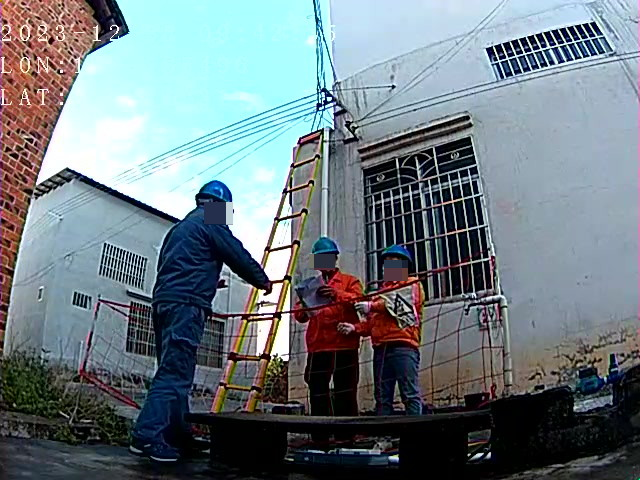downcloth: (307, 352, 355, 414)
downsuit: (131, 308, 209, 457), (375, 346, 425, 410)
halt: (195, 180, 236, 218), (311, 236, 342, 273), (380, 244, 414, 277)
inear: (208, 199, 228, 217)
longglove: (314, 282, 338, 302)
person: (128, 177, 268, 472), (294, 234, 365, 419), (363, 241, 430, 419)
upsuit: (155, 210, 262, 298)
wglove: (350, 299, 370, 313), (336, 320, 354, 335)
yupsuit: (298, 270, 363, 347), (356, 273, 428, 339)
